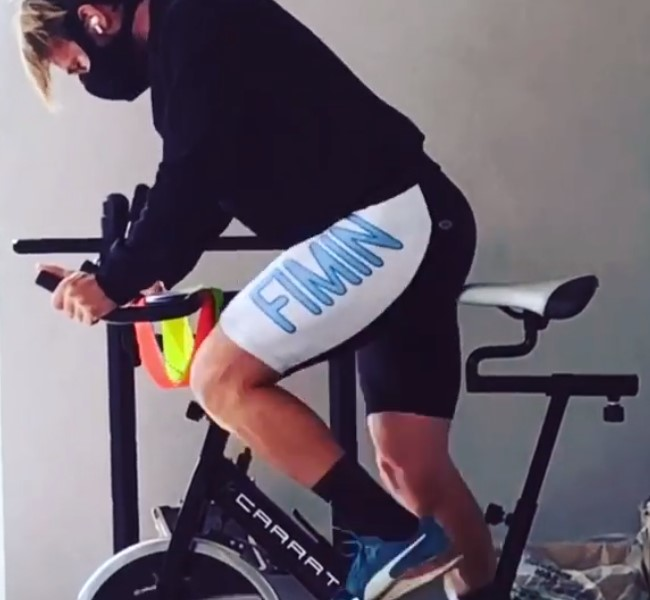face_with_mask: (25, 2, 159, 105)
